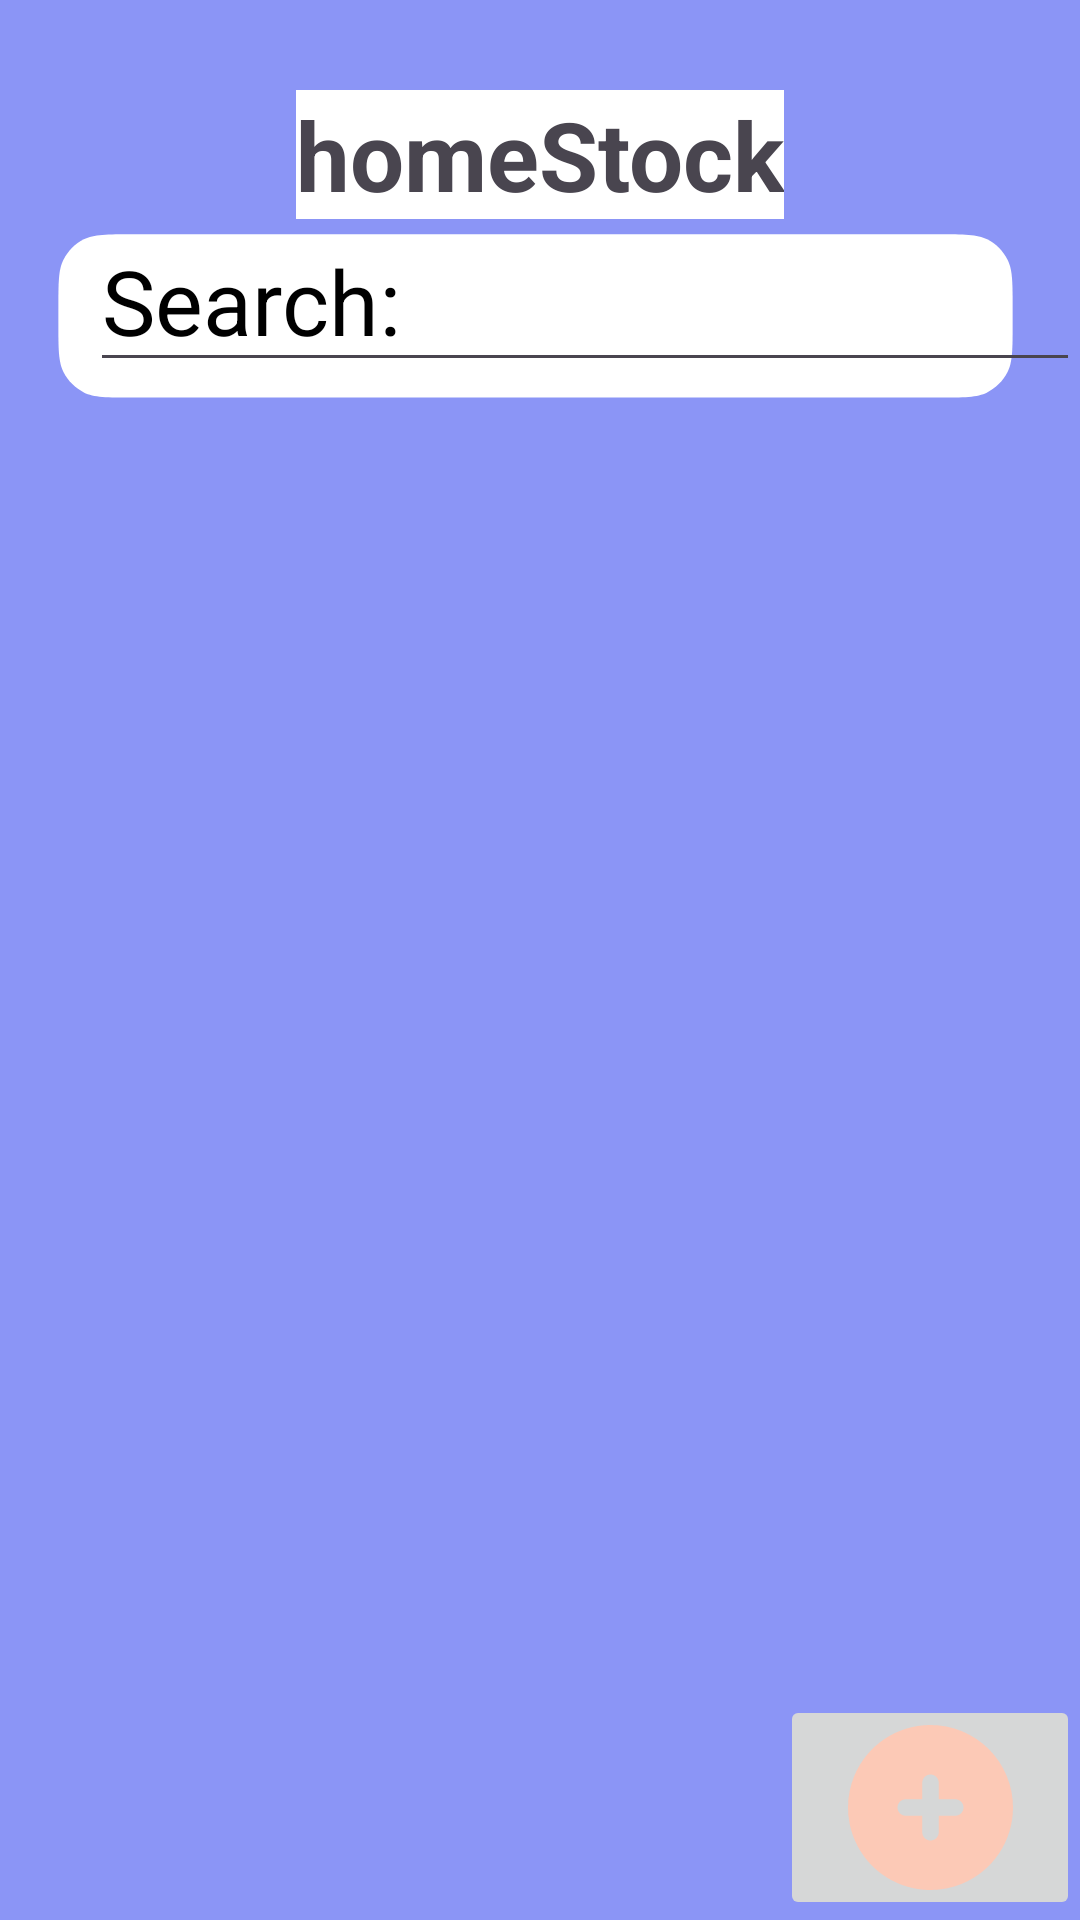

Where icons sit on this 1080 × 1920 app screen, as bbox=(x1, y1, x2, y2):
Add: bbox=(792, 1713, 1068, 1902)
